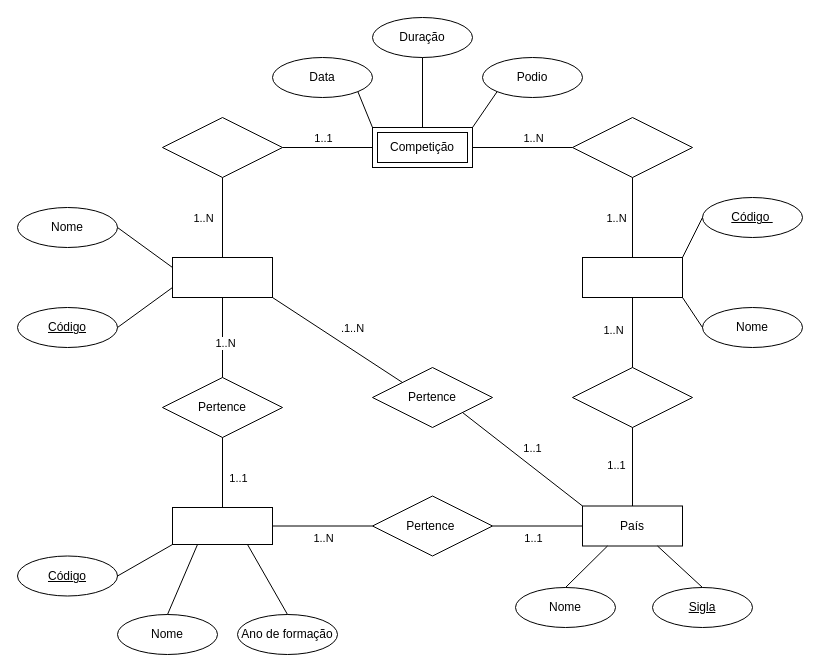
Image size: 820x672. Some labels were removed from this diagram. The shapes that lost their labels are listed below. From the top down, each one's centre as x and y in pixels, then its label:
At [222,147]: "Participa".
At [632,147]: "Ocorre".
At [222,277]: "Piloto".
At [632,277]: "Cirquito".
At [632,397]: "Contém".
At [222,525]: "Equipe".
